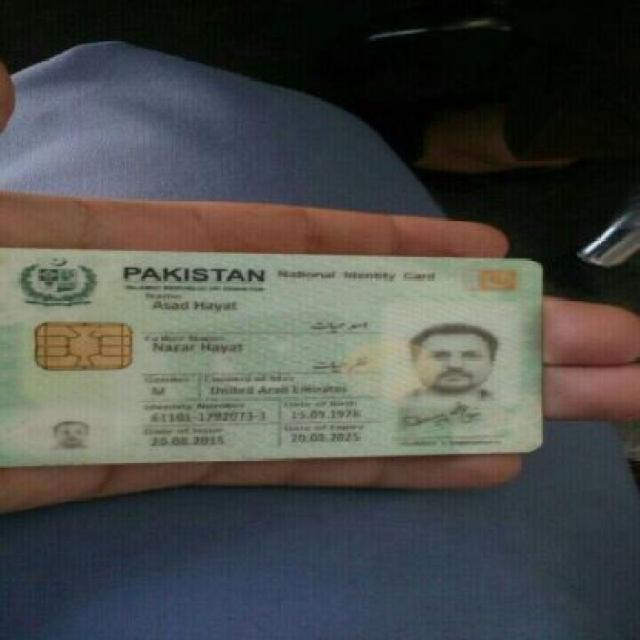Front: (1, 239, 562, 466)
